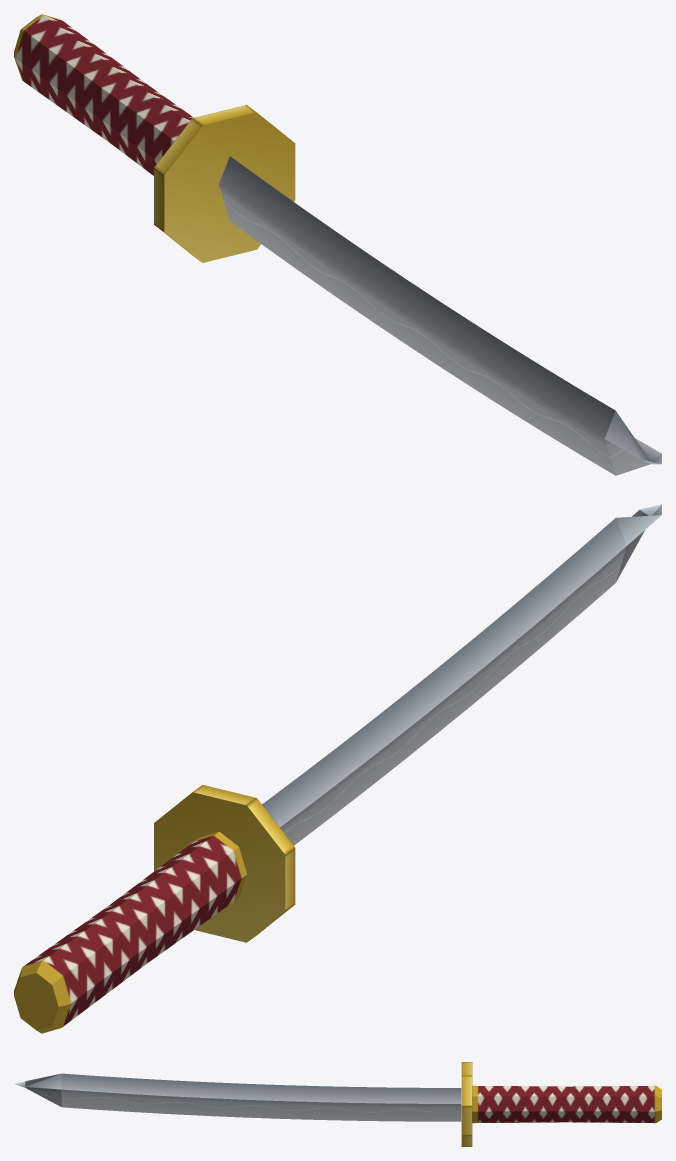
Rendered from acc_Sabre_Gauche.fbx.
3 renders of one model, top to bottom at view 1: azimuth 30°, elevation 25°; view 2: azimuth 150°, elevation 25°; view 3: azimuth 270°, elevation 25°, orthographic. The views are drawn at different scales.
Visible parts, largest first — view 1: Acc_Sabre_Gauche; view 2: Acc_Sabre_Gauche; view 3: Acc_Sabre_Gauche.
Part boxes in pixels (x1=…): Acc_Sabre_Gauche: x1=14, y1=14, x2=661, y2=475; Acc_Sabre_Gauche: x1=14, y1=504, x2=661, y2=1033; Acc_Sabre_Gauche: x1=14, y1=1062, x2=661, y2=1146.
Size of the model in its own units: 41.39 by 41.39 by 342.
1 material, 1 textured.
